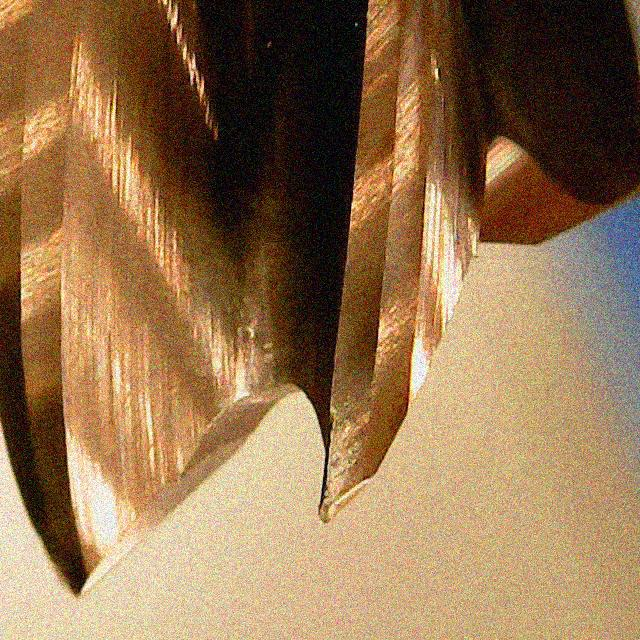Tool-wear-class-1: (303, 197, 428, 530)
